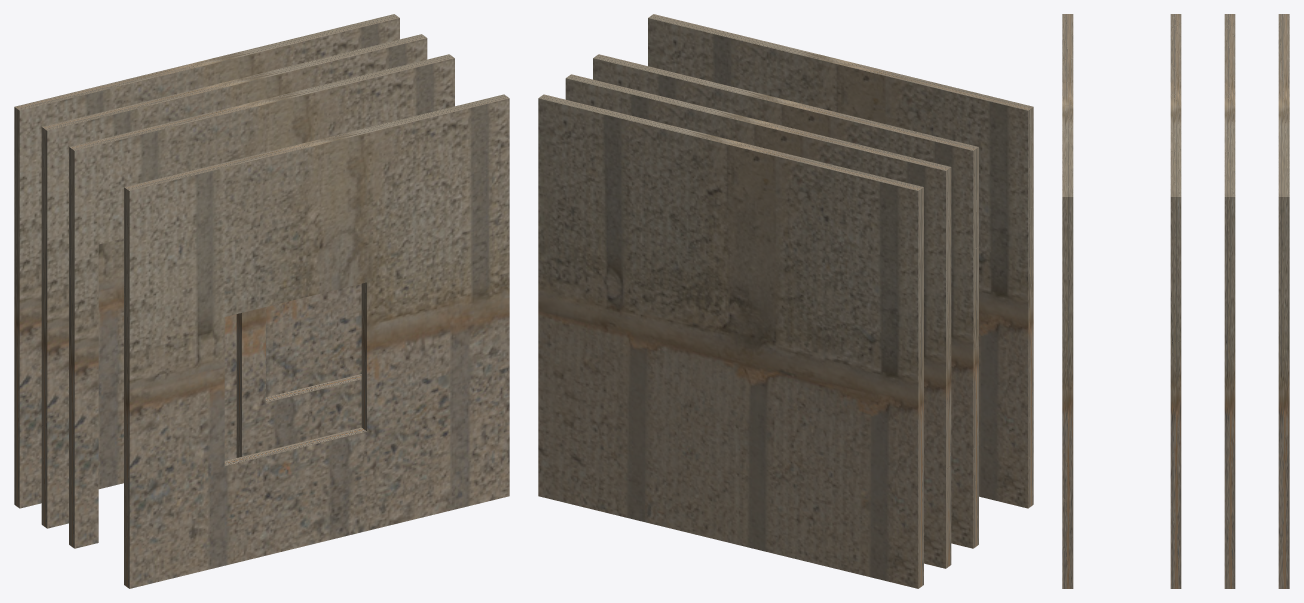
File: walls.fbx
3 views of the same model, side by side, from view 1: azimuth 30°, elevation 25°; view 2: azimuth 150°, elevation 25°; view 3: azimuth 270°, elevation 25° (orthographic).
Parts seen in each view (by area): view 1: wall + window, wall + door + window, wall + door, wall; view 2: wall, wall + window, wall + door, wall + door + window; view 3: wall, wall + door, wall + door + window, wall + window.
Part boxes in pixels (<box>): wall + window: <box>124,94,509,588</box>; wall + door + window: <box>69,54,454,548</box>; wall + door: <box>41,34,427,528</box>; wall: <box>14,14,399,508</box>; wall: <box>538,94,923,588</box>; wall + window: <box>648,14,1033,508</box>; wall + door: <box>565,74,951,568</box>; wall + door + window: <box>593,54,978,548</box>; wall: <box>1278,14,1289,588</box>; wall + door: <box>1224,14,1235,588</box>; wall + door + window: <box>1170,14,1181,588</box>; wall + window: <box>1062,14,1073,588</box>.
Bounding box in the file's own units: 800 × 800 × 420.
